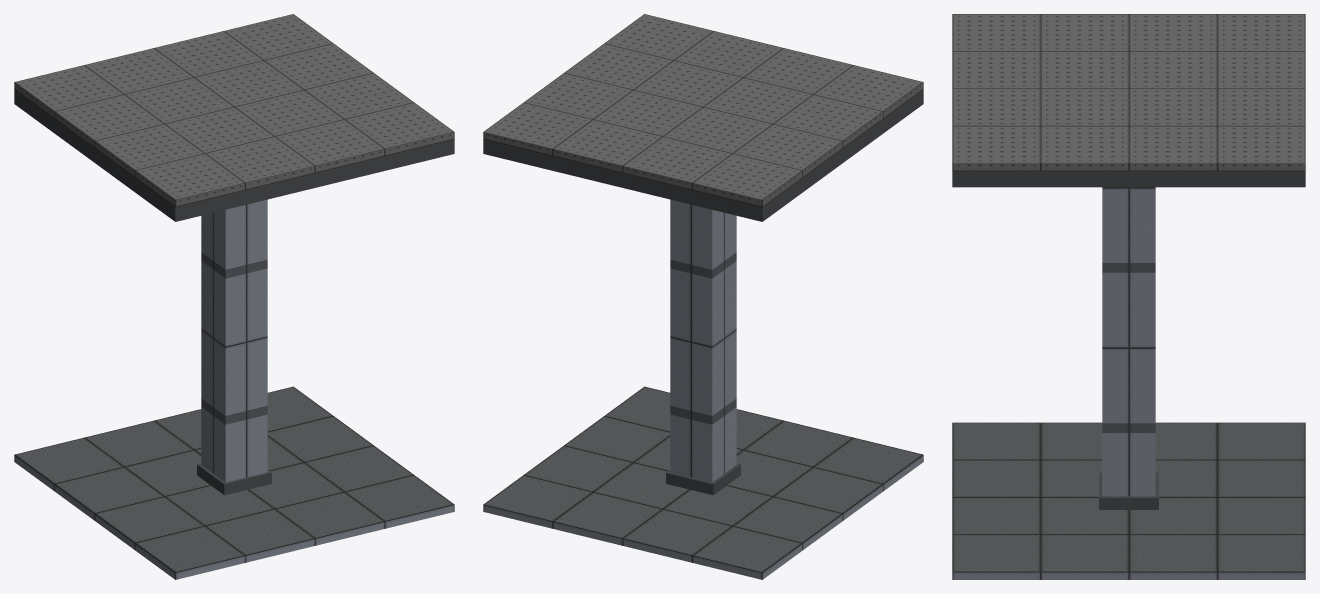
The model's file is Room_SciFi_Column.glb.
The picture shows the model from 3 angles, left to right: view 1: azimuth 30°, elevation 25°; view 2: azimuth 150°, elevation 25°; view 3: azimuth 270°, elevation 25°; orthographic projection. The views are drawn at different scales.
Visible parts, largest first — view 1: Room_SciFi_Column, Room_SciFi_Column_Ceiling; view 2: Room_SciFi_Column, Room_SciFi_Column_Ceiling; view 3: Room_SciFi_Column, Room_SciFi_Column_Ceiling.
Part boxes in pixels (<box>): Room_SciFi_Column: <box>14,199,454,579</box>; Room_SciFi_Column_Ceiling: <box>14,14,454,221</box>; Room_SciFi_Column: <box>483,199,923,579</box>; Room_SciFi_Column_Ceiling: <box>483,14,923,221</box>; Room_SciFi_Column: <box>952,187,1305,579</box>; Room_SciFi_Column_Ceiling: <box>952,14,1305,187</box>.
Bounding box in the file's own units: 4 × 5.2 × 4.
Materials: 6 (3 with a texture image).
